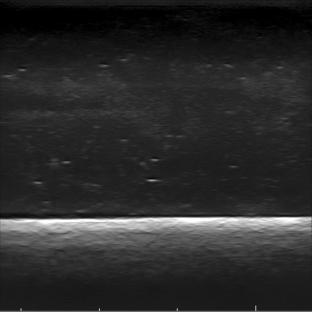vessel: (0, 79, 102, 123)
